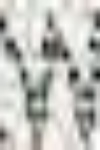W: (0, 0, 99, 149)
